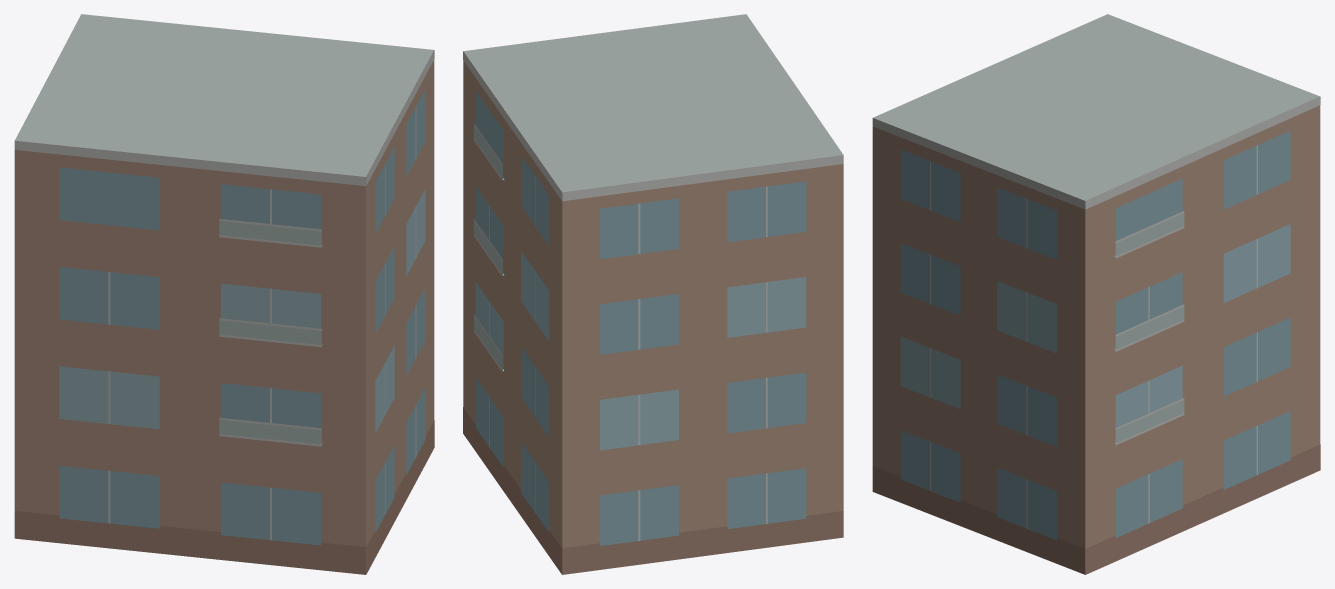
The model's file is survey-upis-32514759.glb.
The picture shows the model from 3 angles, left to right: view 1: azimuth 30°, elevation 25°; view 2: azimuth 150°, elevation 25°; view 3: azimuth 270°, elevation 25°; orthographic projection. The views are drawn at different scales.
Parts seen in each view (by area): view 1: survey-upis-32514759.tmp; view 2: survey-upis-32514759.tmp; view 3: survey-upis-32514759.tmp.
Boxes of the visible parts, x1,y1,x2,y2 form: survey-upis-32514759.tmp: (14,14,434,574); survey-upis-32514759.tmp: (463,14,843,574); survey-upis-32514759.tmp: (872,14,1320,574).
Size of the model in its own units: 11.38 by 10.6 by 11.51.
